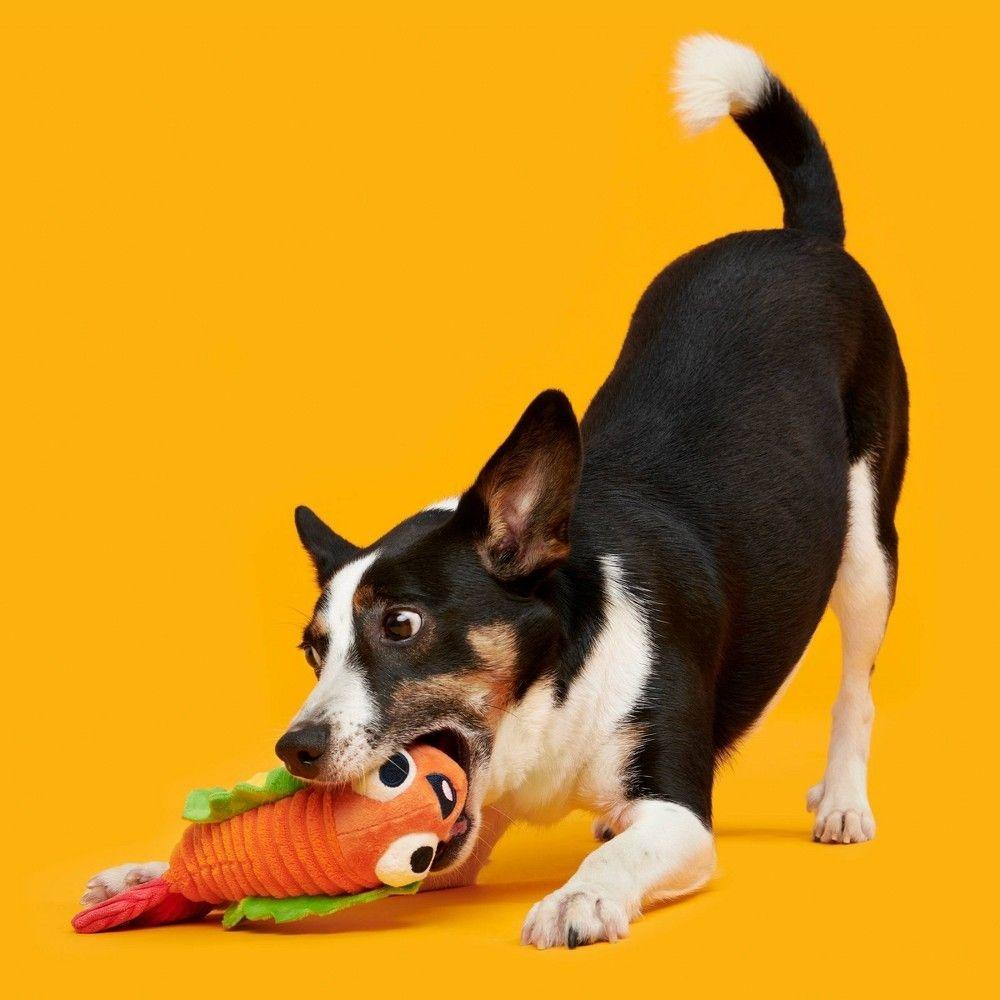adult_dog: (69, 29, 914, 949)
